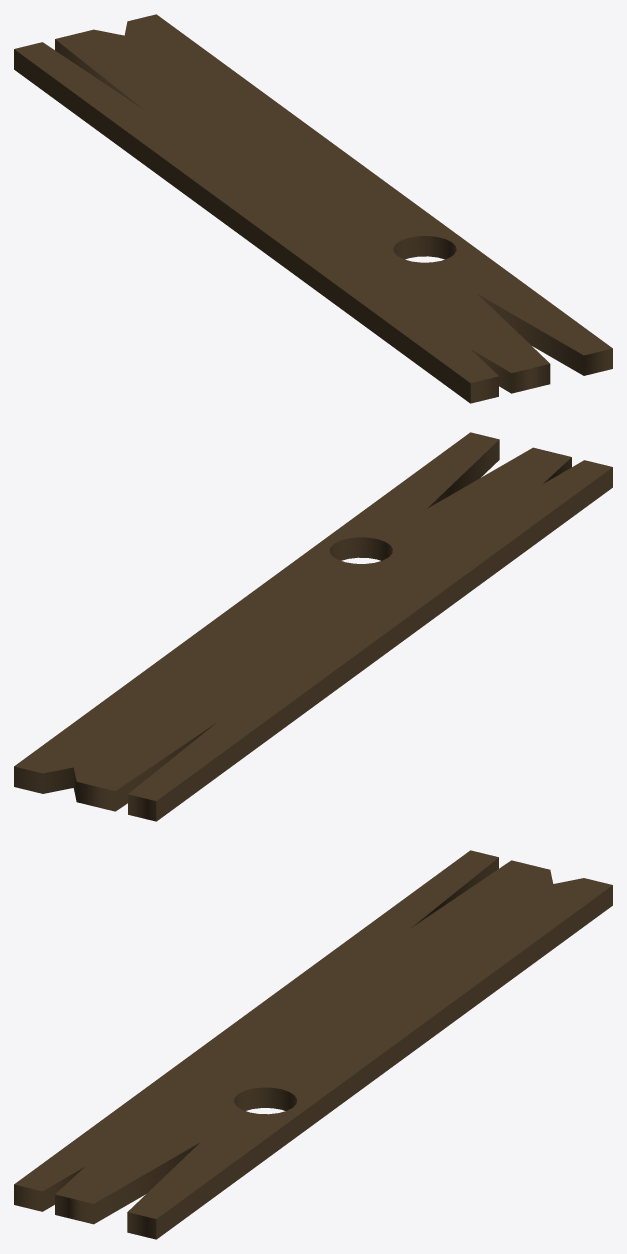
File: damagedPlank2.fbx
The picture shows the model from 3 angles, top to bottom: view 1: azimuth 30°, elevation 25°; view 2: azimuth 150°, elevation 25°; view 3: azimuth 330°, elevation 25°; orthographic projection.
Parts seen in each view (by area): view 1: pCube2; view 2: pCube2; view 3: pCube2.
Part boxes in pixels (box(x1,y1,x2,y2)): pCube2: box(14, 14, 612, 403); pCube2: box(14, 432, 612, 821); pCube2: box(14, 850, 612, 1239).
Bounding box in the file's own units: 0.6462 × 0.0888 × 3.59.
